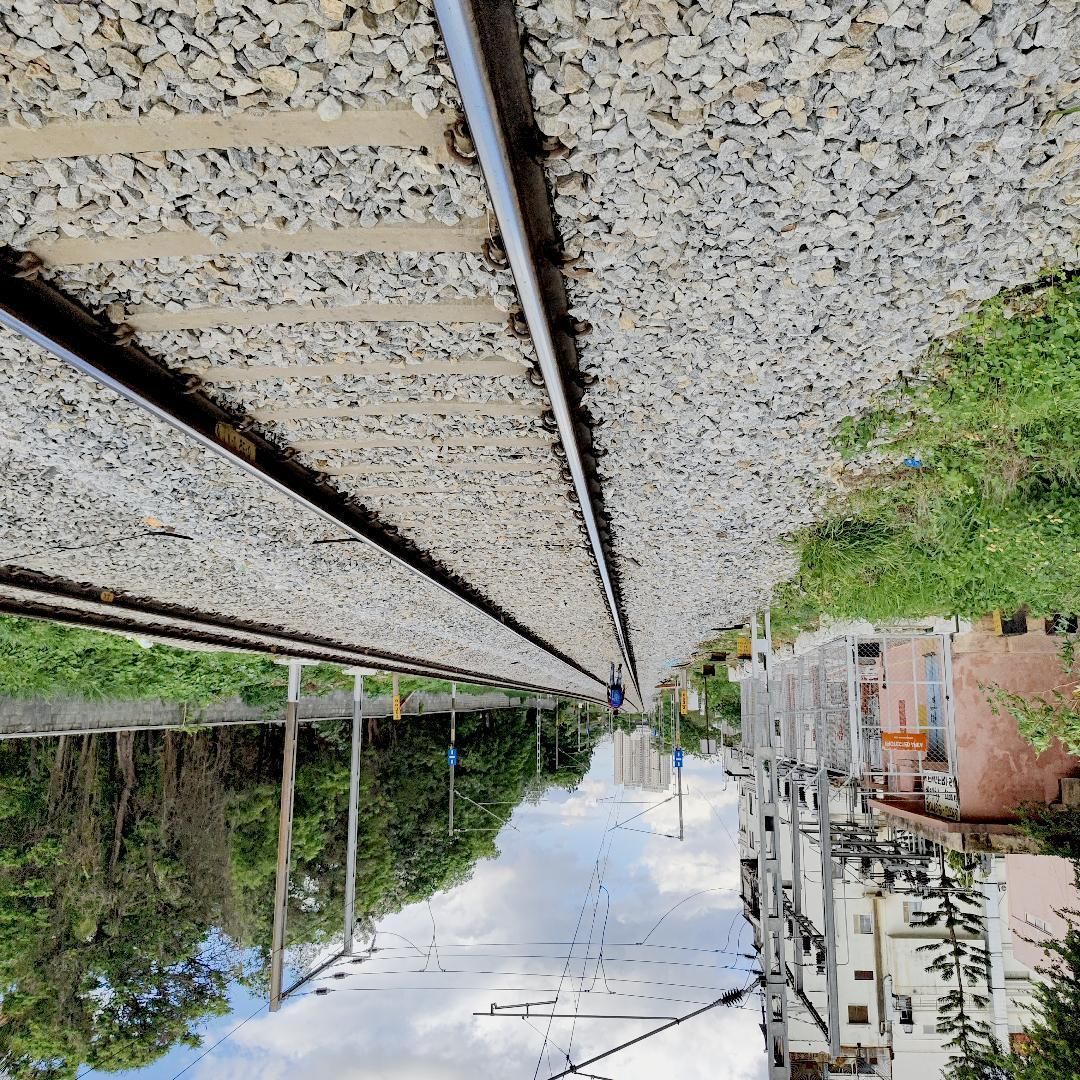standing: (603, 659, 631, 717)
